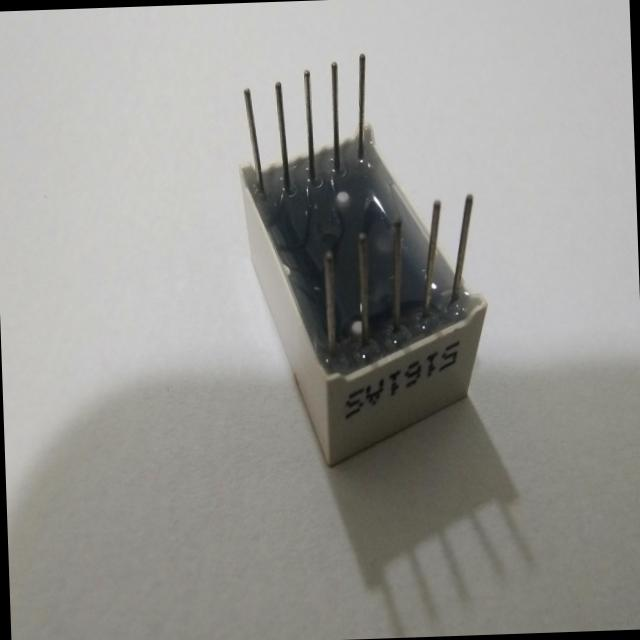7_segments: (216, 34, 507, 484)
